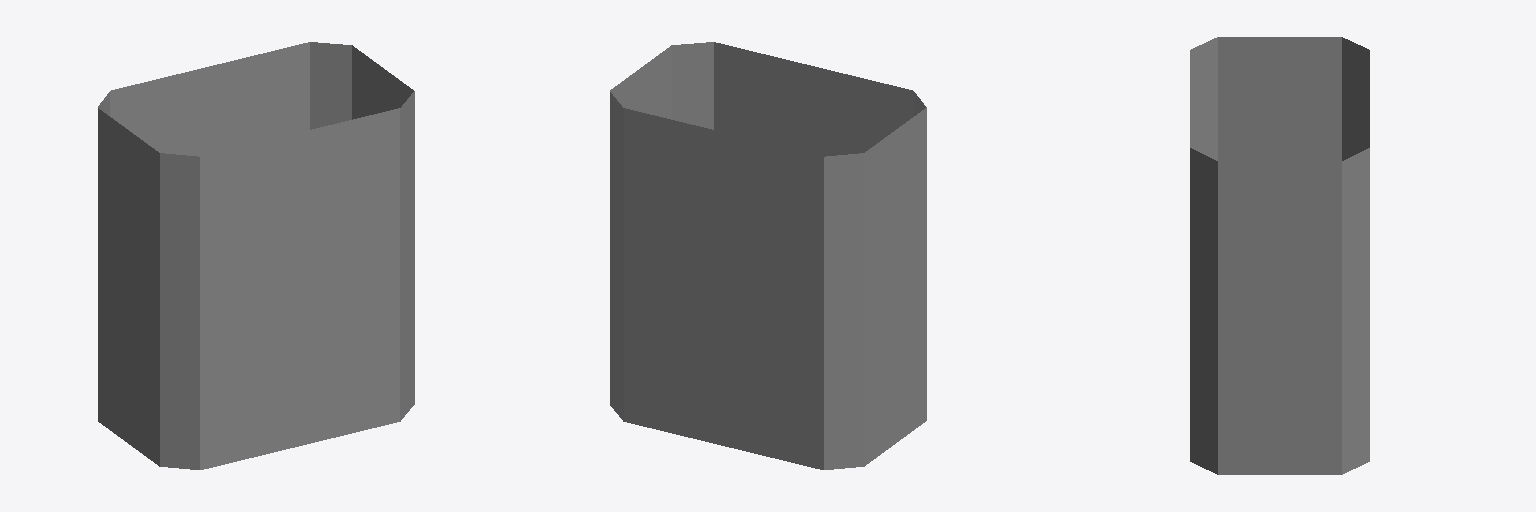
Rendered from MissileLauncherBarrel_old.obj.
3 views of the same model, side by side, from view 1: azimuth 30°, elevation 25°; view 2: azimuth 150°, elevation 25°; view 3: azimuth 270°, elevation 25° (orthographic).
Parts seen in each view (by area): view 1: Cube.001; view 2: Cube.001; view 3: Cube.001.
Boxes of the visible parts, box(x1,y1,x2,y2) form: Cube.001: box(98, 42, 414, 469); Cube.001: box(610, 42, 926, 469); Cube.001: box(1190, 37, 1369, 474).
Bounding box in the file's own units: 1.76 × 2.07 × 1.08.